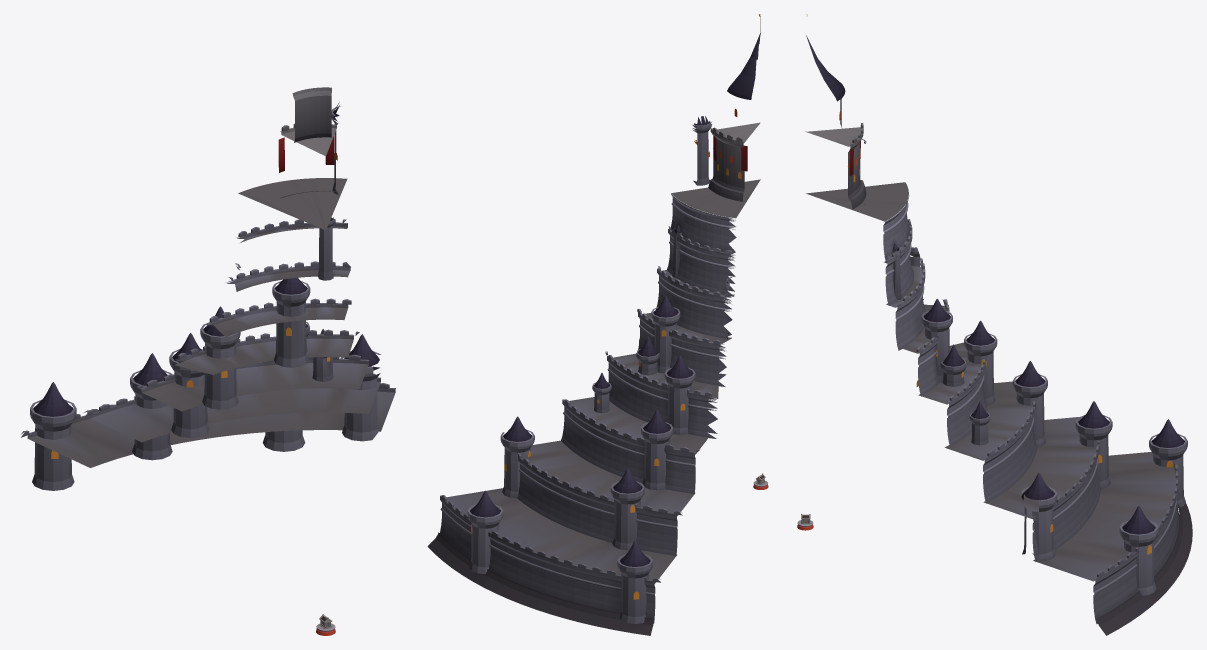
Rendered from fortress-s2-oL2-CsJR.glb.
3 views of the same model, side by side, from view 1: azimuth 30°, elevation 25°; view 2: azimuth 150°, elevation 25°; view 3: azimuth 270°, elevation 25° (orthographic). The views are drawn at different scales.
Parts seen in each view (by area): view 1: sc_landmark_1; view 2: sc_landmark_1; view 3: sc_landmark_1.
Boxes of the visible parts, left/top/right/bottom form: sc_landmark_1: left=21, top=87, right=395, bottom=490; sc_landmark_1: left=427, top=14, right=760, bottom=635; sc_landmark_1: left=805, top=14, right=1192, bottom=635.
Size of the model in its own units: 275 by 479 by 331.
